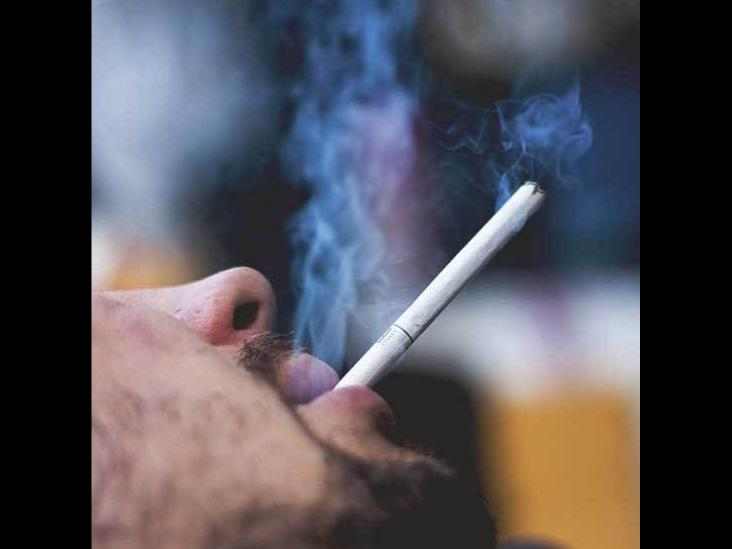Cigarette: (332, 179, 544, 390)
Smoke: (293, 78, 411, 384), (511, 96, 593, 150)
